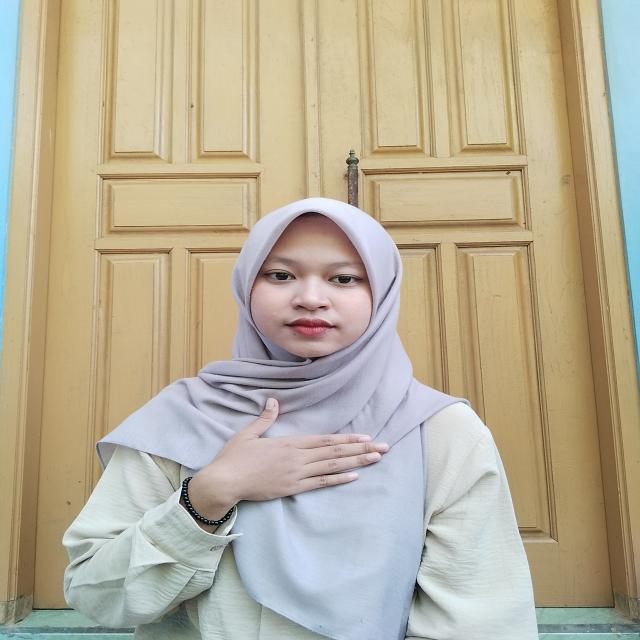tolong: (176, 394, 392, 542)
